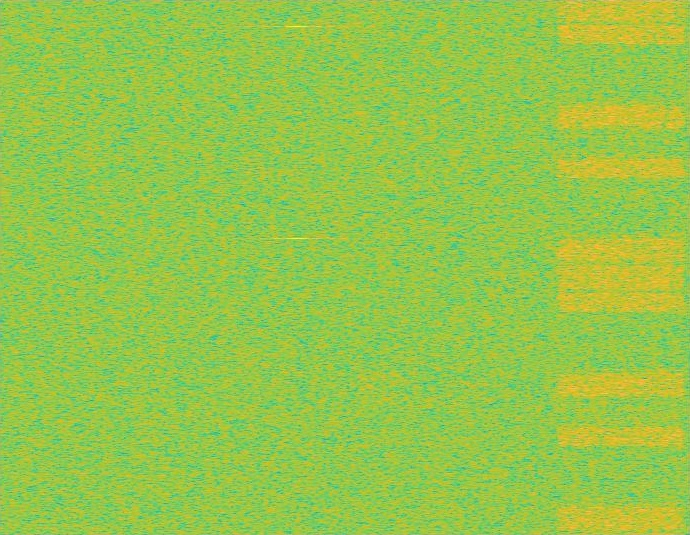LTE: (552, 0, 689, 534)
Radar: (290, 0, 304, 534)
